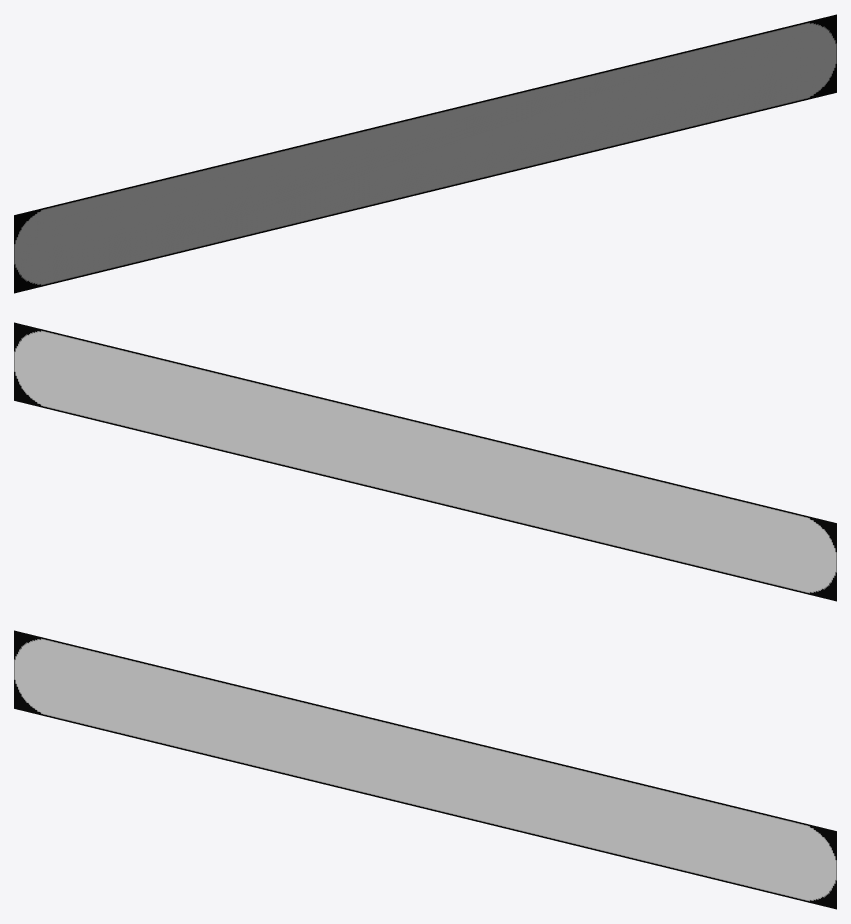
3 views of the same model, one above another, from view 1: azimuth 30°, elevation 25°; view 2: azimuth 150°, elevation 25°; view 3: azimuth 330°, elevation 25° (orthographic).
Parts seen in each view (by area): view 1: Joint_0_Object_0; view 2: Joint_0_Object_0; view 3: Joint_0_Object_0.
Boxes of the visible parts, left/top/right/bottom form: Joint_0_Object_0: left=14, top=14, right=836, bottom=293; Joint_0_Object_0: left=14, top=322, right=836, bottom=601; Joint_0_Object_0: left=14, top=630, right=836, bottom=909.
Size of the model in its own units: 1031 by 93.75 by 0.
Materials: 1 (1 with a texture image).
